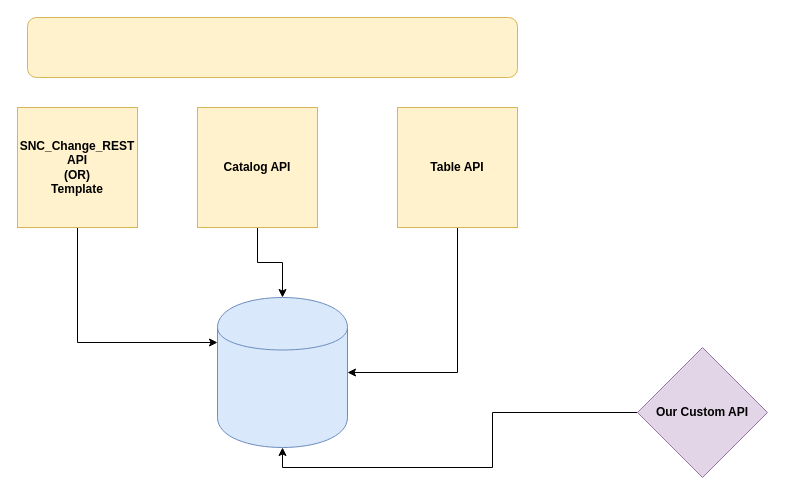
Image size: 785x495. Some labels were removed from this diagram. Each missing label, with the box of its shape:
Change Request TABLE: (216, 296, 348, 448)
ServiceNow APIs: (26, 16, 518, 78)
